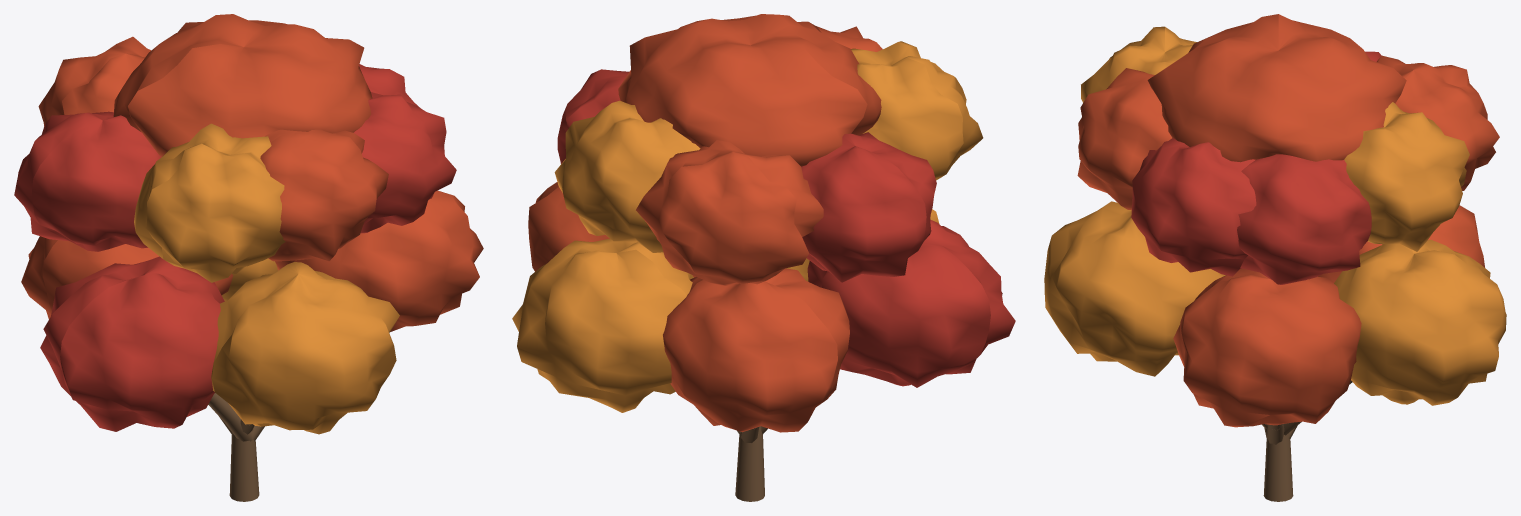
Rendered from kanzan-osz.glb.
3 views of the same model, side by side, from view 1: azimuth 30°, elevation 25°; view 2: azimuth 150°, elevation 25°; view 3: azimuth 270°, elevation 25° (orthographic).
Parts seen in each view (by area): view 1: korona-teto, korona-3, korona-2, korona-gyuru-3, korona-gyuru-4, korona-1, korona-gyuru-2, korona-gyuru-1, korona-gyuru-5, korona-4, torzs, korona-gyuru-7 (+1 smaller); view 2: korona-teto, korona-4, korona-5, korona-gyuru-5, korona-3, korona-gyuru-4, korona-gyuru-6, korona-gyuru-3, korona-1, korona-gyuru-7, torzs, korona-gyuru-2; view 3: korona-teto, korona-1, korona-5, korona-2, korona-gyuru-7, korona-gyuru-1, korona-gyuru-6, korona-gyuru-2, korona-gyuru-5, korona-gyuru-3, korona-4, torzs.
Part boxes in pixels (x1,y1,x2,y2): korona-teto: [113, 14, 372, 156]; korona-3: [40, 256, 224, 431]; korona-2: [211, 262, 399, 434]; korona-gyuru-3: [134, 123, 285, 282]; korona-gyuru-4: [14, 111, 161, 251]; korona-1: [275, 190, 483, 331]; korona-gyuru-2: [260, 129, 388, 261]; korona-gyuru-1: [354, 92, 456, 233]; korona-gyuru-5: [38, 36, 150, 125]; korona-4: [21, 236, 233, 319]; torzs: [229, 429, 259, 501]; korona-gyuru-7: [359, 64, 419, 107]; korona-teto: [618, 14, 881, 166]; korona-4: [663, 268, 849, 432]; korona-5: [512, 238, 693, 412]; korona-gyuru-5: [636, 140, 823, 285]; korona-3: [807, 219, 1015, 387]; korona-gyuru-4: [801, 132, 936, 282]; korona-gyuru-6: [554, 100, 700, 252]; korona-gyuru-3: [851, 41, 983, 180]; korona-1: [528, 182, 695, 277]; korona-gyuru-7: [557, 69, 629, 163]; torzs: [735, 426, 764, 501]; korona-gyuru-2: [816, 26, 882, 51]; korona-teto: [1147, 14, 1406, 162]; korona-1: [1173, 268, 1361, 427]; korona-5: [1334, 240, 1506, 405]; korona-2: [1044, 201, 1225, 376]; korona-gyuru-7: [1237, 154, 1371, 284]; korona-gyuru-1: [1131, 138, 1256, 276]; korona-gyuru-6: [1344, 102, 1469, 251]; korona-gyuru-2: [1077, 68, 1171, 209]; korona-gyuru-5: [1377, 55, 1499, 190]; korona-gyuru-3: [1081, 26, 1196, 102]; korona-4: [1318, 205, 1484, 283]; torzs: [1263, 433, 1293, 501].
Bounding box in the file's own units: 8 × 8.01 × 7.34.
